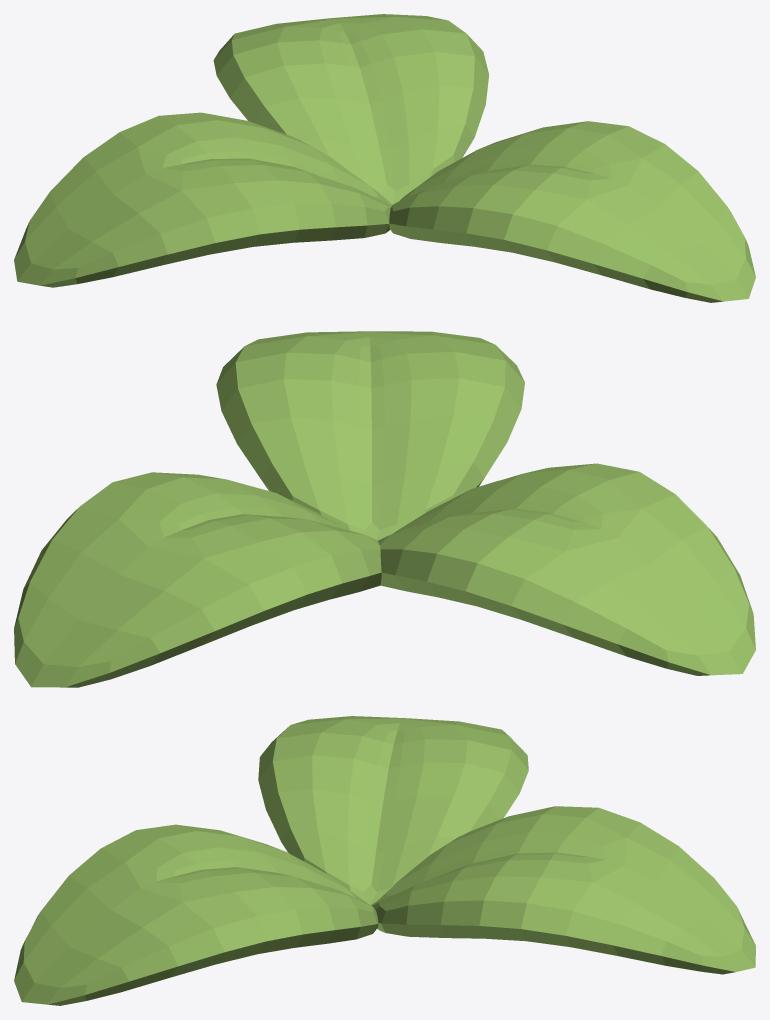
File: grass_leave.fbx
3 renders of one model, top to bottom at view 1: azimuth 30°, elevation 25°; view 2: azimuth 150°, elevation 25°; view 3: azimuth 270°, elevation 25°, orthographic. The views are drawn at different scales.
Parts seen in each view (by area): view 1: Cube.089, Cube.087, Cube.088; view 2: Cube.089, Cube.088, Cube.087; view 3: Cube.088, Cube.087, Cube.089.
Boxes of the visible parts, box(x1,y1,x2,y2) form: Cube.089: box(14, 112, 391, 287); Cube.087: box(389, 121, 755, 302); Cube.088: box(213, 14, 488, 204); Cube.089: box(378, 463, 755, 675); Cube.088: box(14, 472, 381, 687); Cube.087: box(216, 331, 524, 540); Cube.088: box(371, 806, 755, 974); Cube.087: box(14, 824, 378, 1005); Cube.089: box(258, 716, 528, 905).
Bounding box in the file's own units: 0.4797 × 0.5473 × 0.0784.
